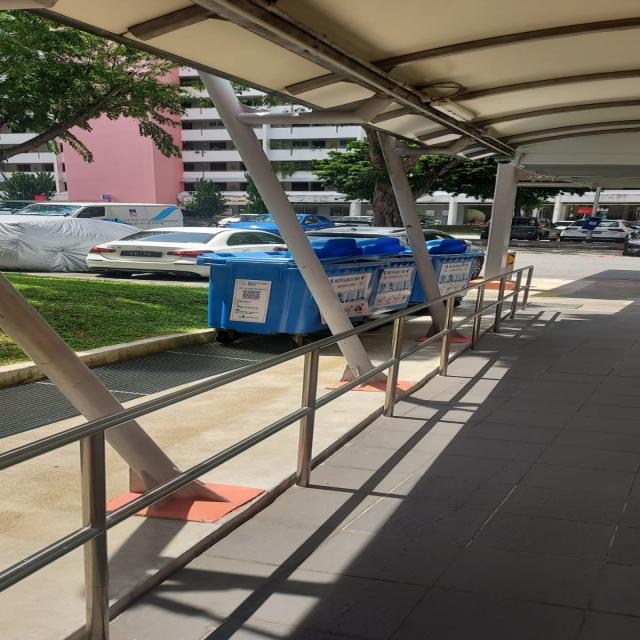bin_empty: (196, 235, 378, 334), (391, 236, 488, 308)
